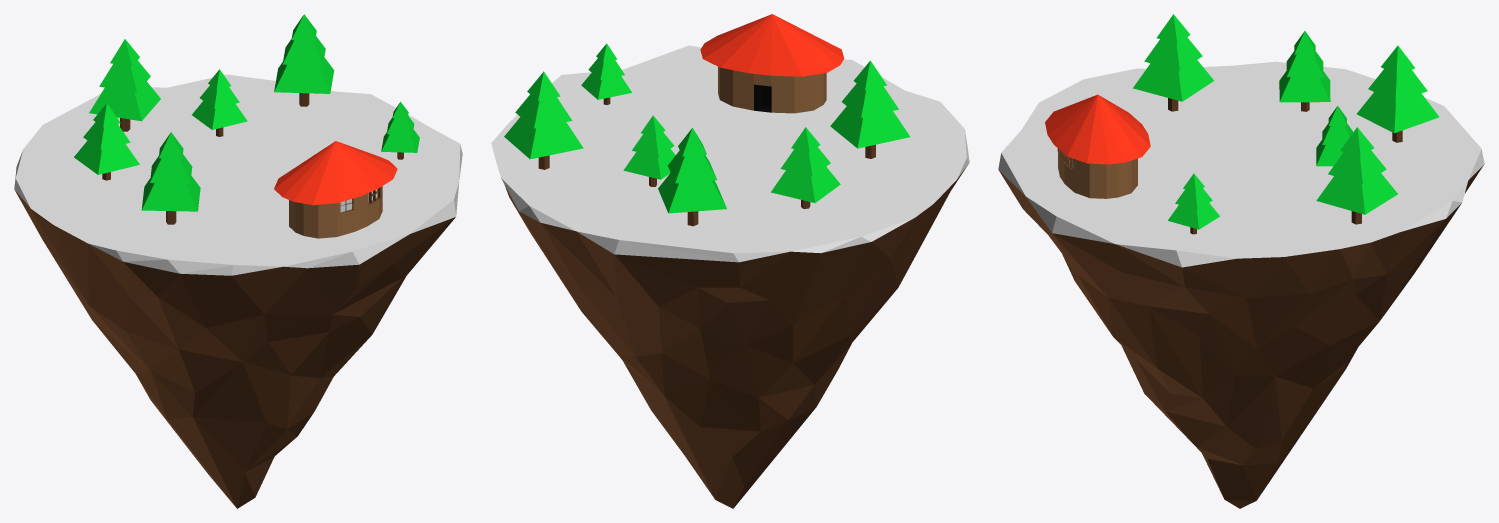
The model's file is Winter hut floating mountain..glb.
3 renders of one model, left to right at view 1: azimuth 30°, elevation 25°; view 2: azimuth 150°, elevation 25°; view 3: azimuth 270°, elevation 25°, orthographic. The views are drawn at different scales.
Parts seen in each view (by area): view 1: Cone; view 2: Cone; view 3: Cone.
Part boxes in pixels (x1,y1,x2,y2): Cone: [14, 14, 462, 508]; Cone: [491, 14, 969, 508]; Cone: [998, 14, 1484, 508].
Bounding box in the file's own units: 2.44 × 2.56 × 2.53.
